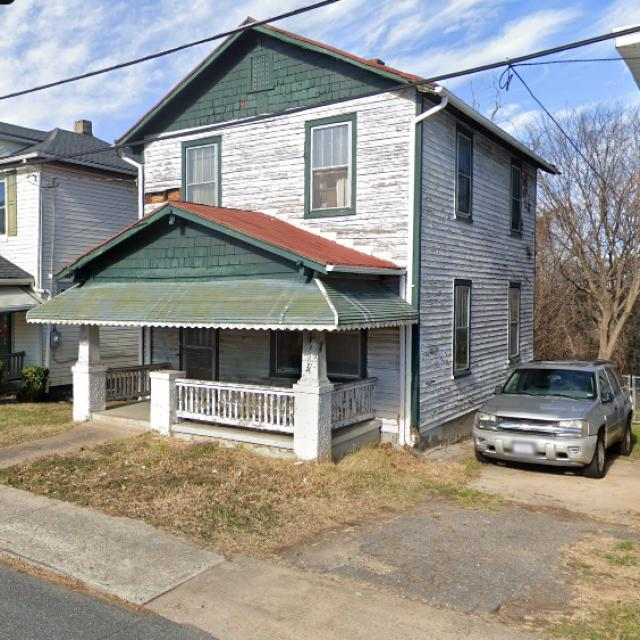House: (26, 16, 565, 464), (0, 120, 138, 387)
